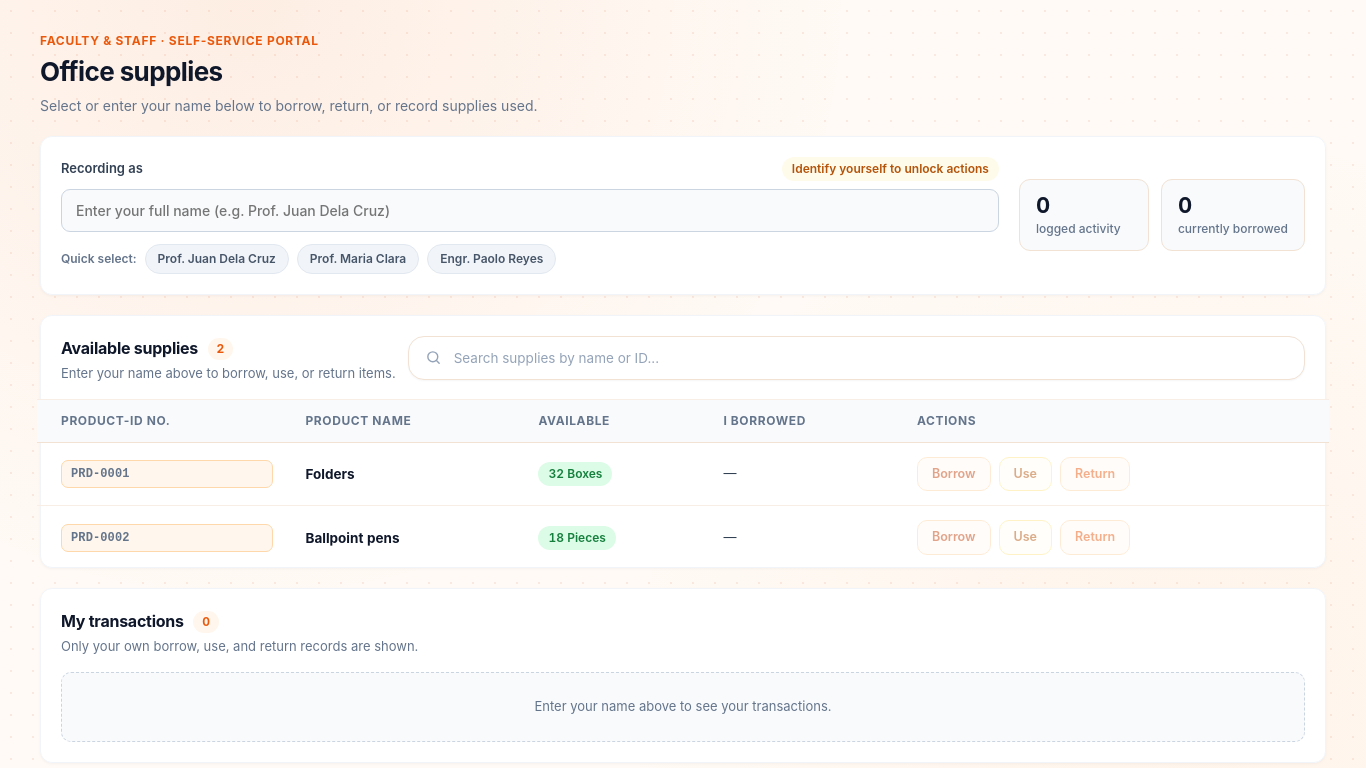
it: filters available supplies by name or product ID
The width and height of the screenshot is (1366, 768).
Expected: the text "Folders" is shown, [306,464,355,484]
Expected: the text "Ballpoint pens" is shown, [306,528,400,548]
In the search field labelled "Search supplies by name or ID...": (870, 358) [452,347,1288,369], type "prd-0002"
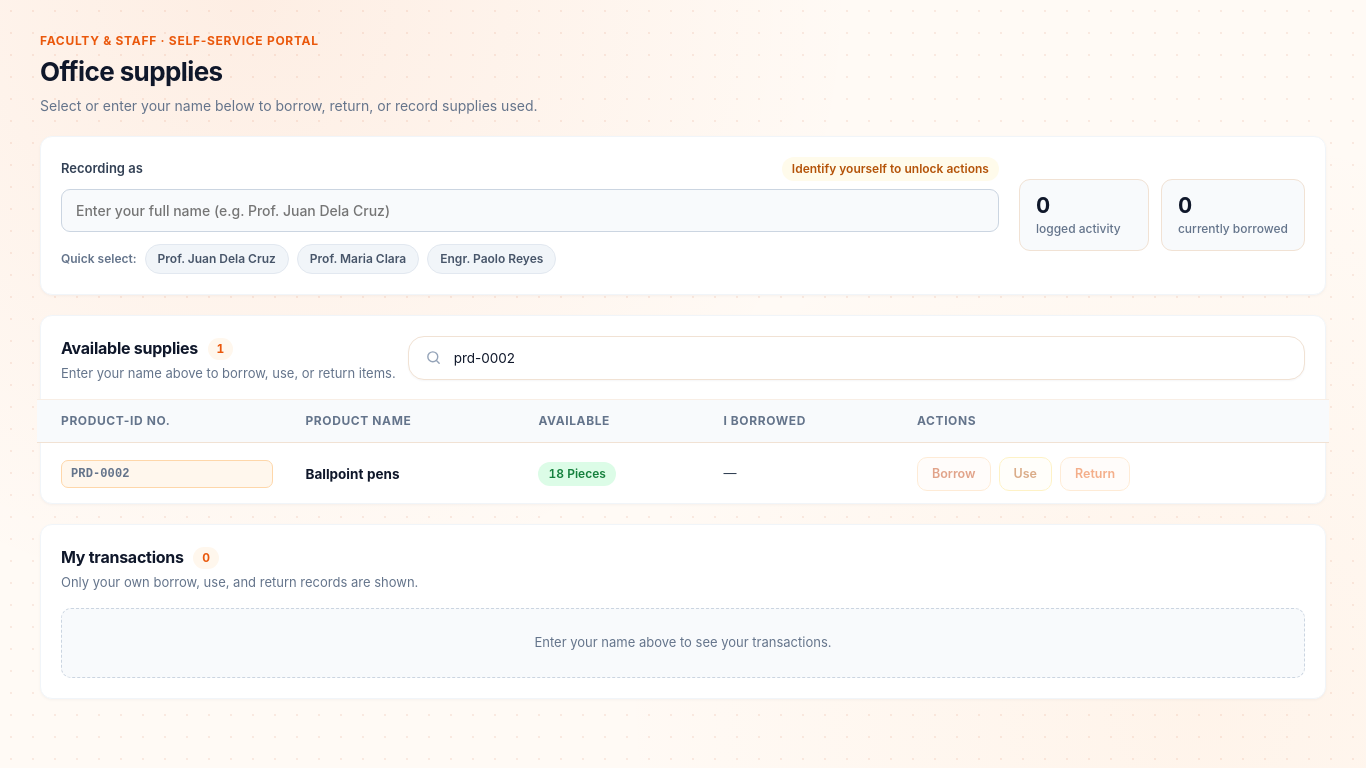
Expected: the text "Ballpoint pens" is shown, [306,464,400,484]
Expected: the text "Folders" is gone
Replace the text in the search field named "Search supplies" with "FOLDER": (870, 358) [452,347,1288,369]
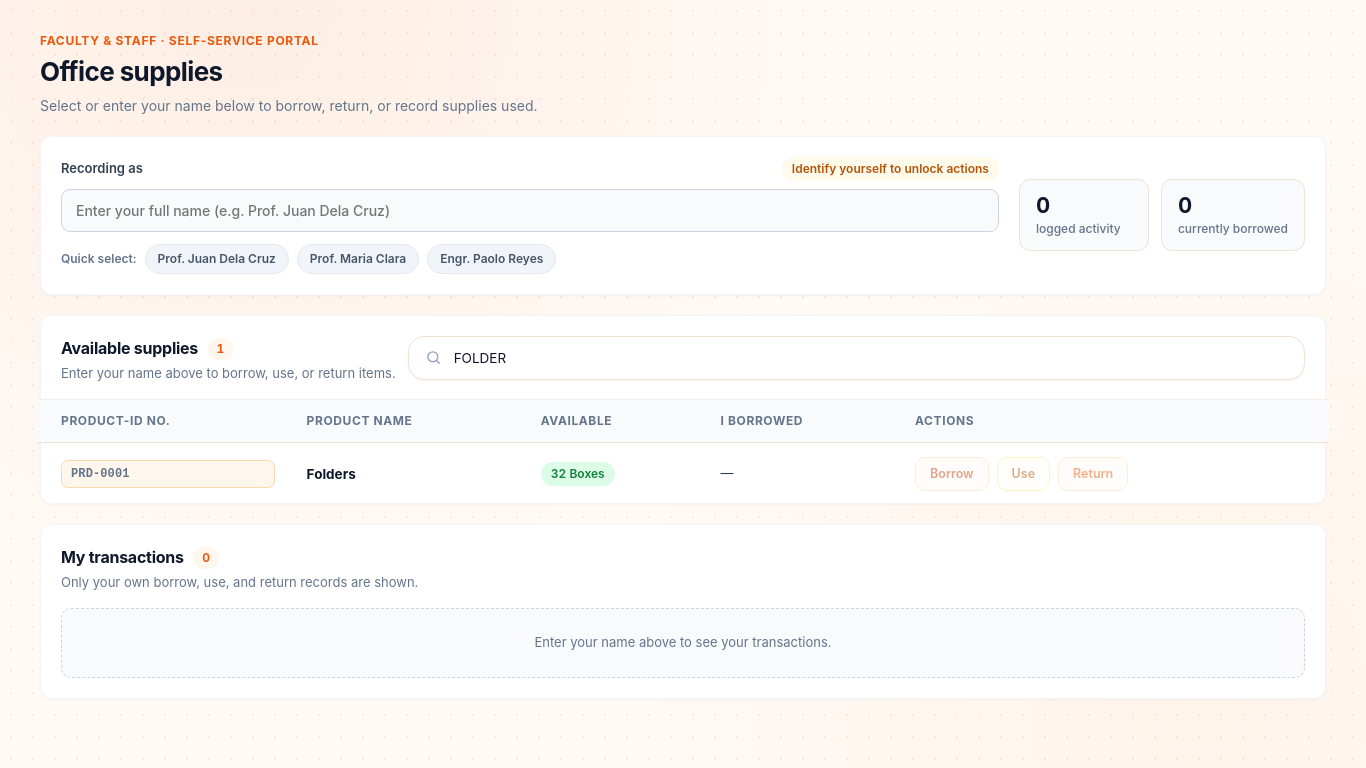
Expected: the text "Folders" is shown, [307,464,356,484]
Expected: the text "Ballpoint pens" is gone
